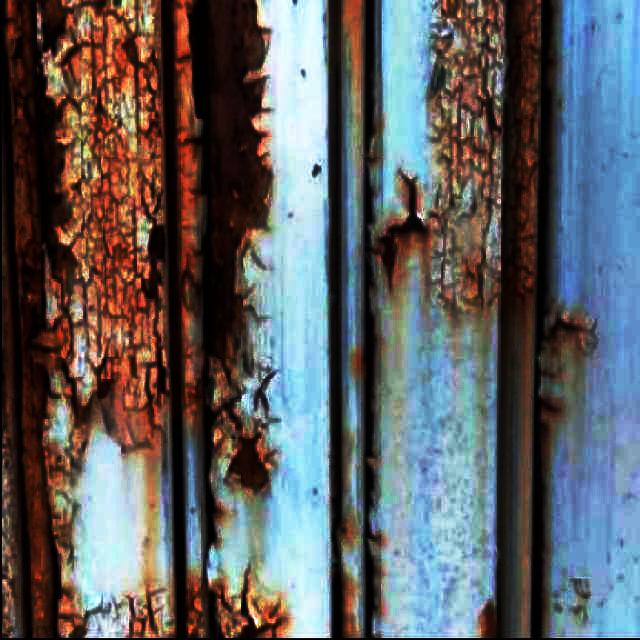Corrosion: (196, 0, 270, 360), (430, 0, 508, 308), (62, 0, 165, 214), (2, 0, 45, 424), (503, 0, 543, 320), (37, 48, 75, 325), (372, 174, 431, 292), (542, 312, 594, 355), (230, 438, 268, 491), (141, 226, 165, 299), (540, 376, 563, 425), (241, 578, 257, 638), (482, 606, 499, 639), (156, 346, 167, 394)
